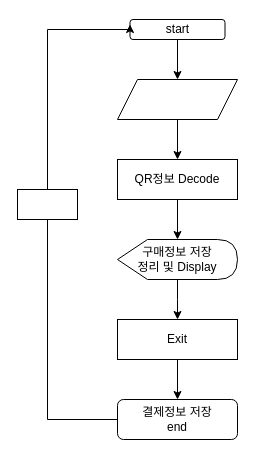
Some shapes in this 255 by 457 pixel diagram are drawn without their labels. Each missing label, with the centre of its shape:
"QR코드 인식" belongs at [177,99].
"save" belongs at [47,204].
